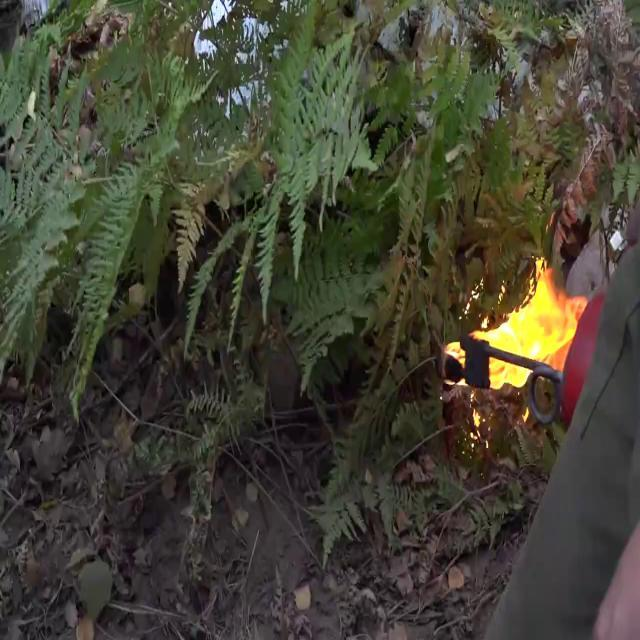Fire: (470, 250, 588, 400)
